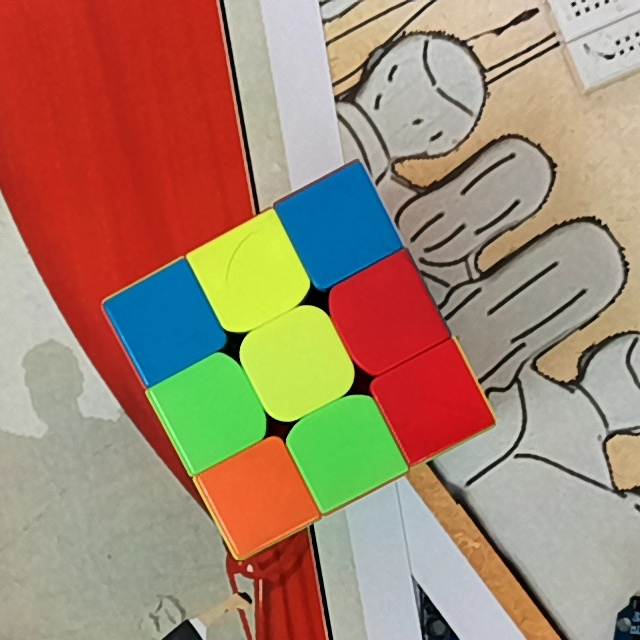tile: (300, 192, 375, 260), (258, 331, 334, 398), (212, 242, 287, 309), (350, 280, 422, 348), (398, 368, 470, 436), (176, 377, 247, 445), (130, 289, 201, 356), (308, 416, 378, 482), (224, 462, 292, 524)
